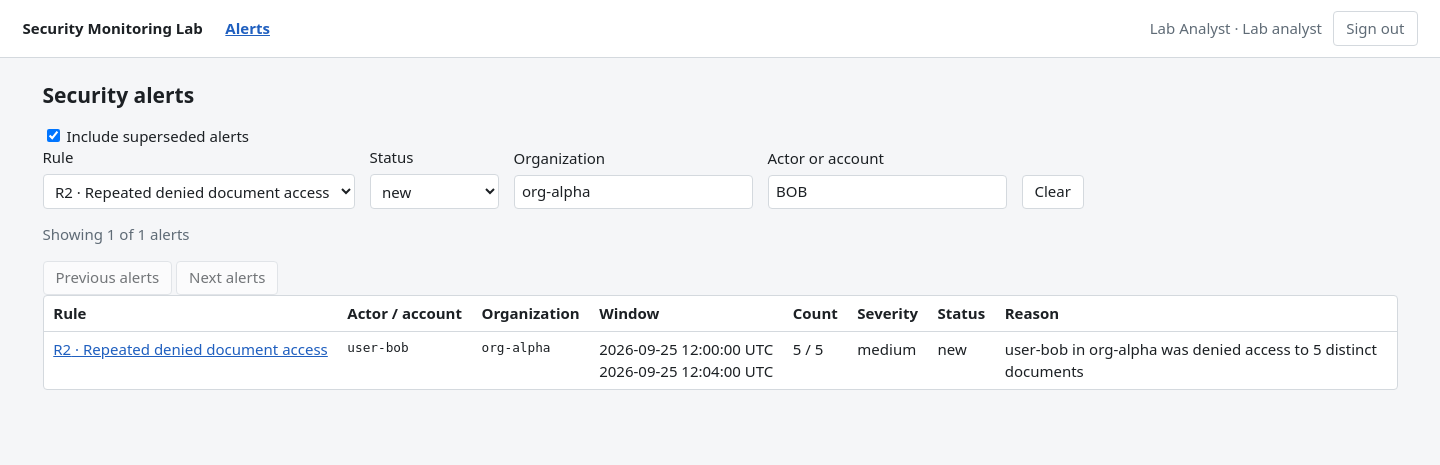
Test: analyst investigation › restores URL filters and preserves history when filters are cleared
The image size is (1440, 465).
Check: the text "Showing 1 of 1 alerts" is shown, box [42,224,190,244]
Check: the dropdown labelled "Rule" shows "R2 · Repeated denied document access", box [42,174,354,209]
Click the checkbox labelled "Include superseded alerts": click(53, 135) [46,129,60,142]
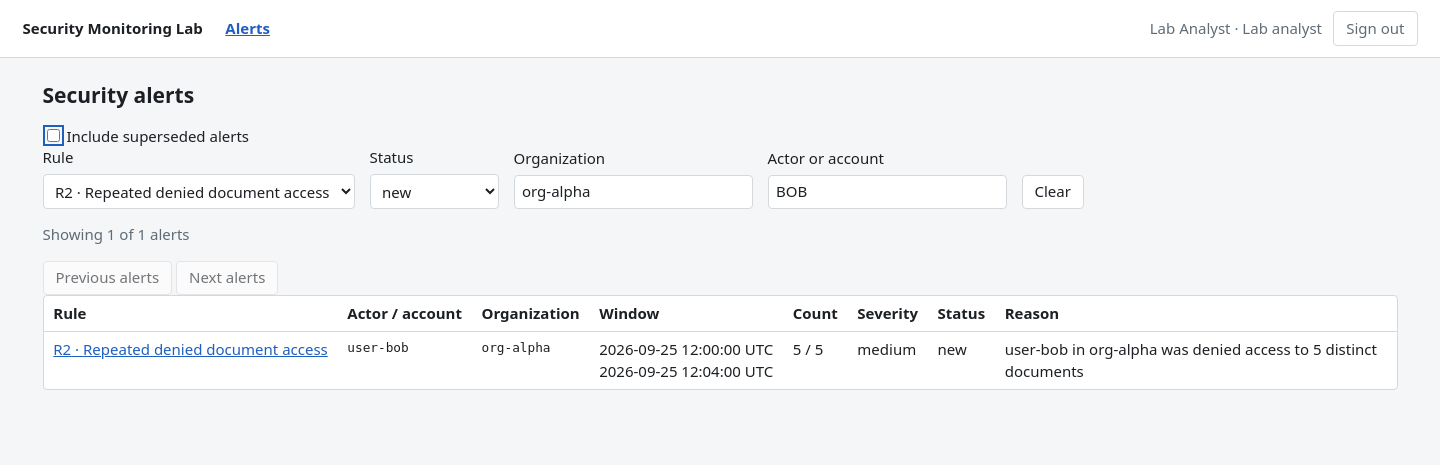
Check: the text "Showing 1 of 1 alerts" is shown, box [42,224,190,244]
Check: the dropdown labelled "Rule" shows "R2 · Repeated denied document access", box [42,174,354,209]
Click the checkbox labelled "Include superseded alerts": click(53, 135) [46,129,60,142]
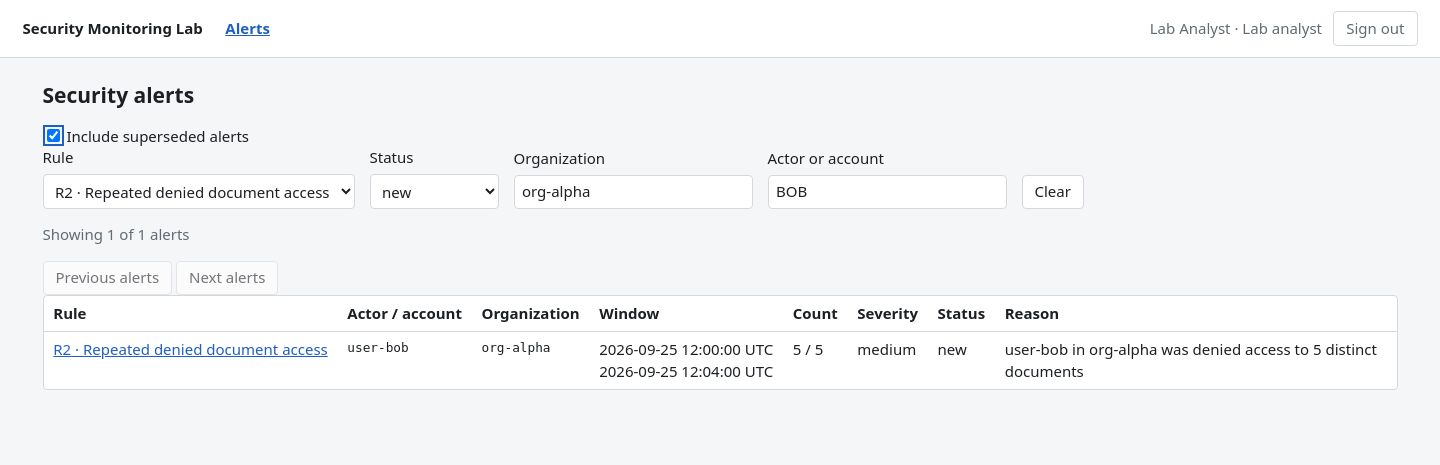
Check: the text "Showing 1 of 1 alerts" is shown, box [42,224,190,244]
Click the button "Clear": click(1053, 192) [1022,175,1084,209]
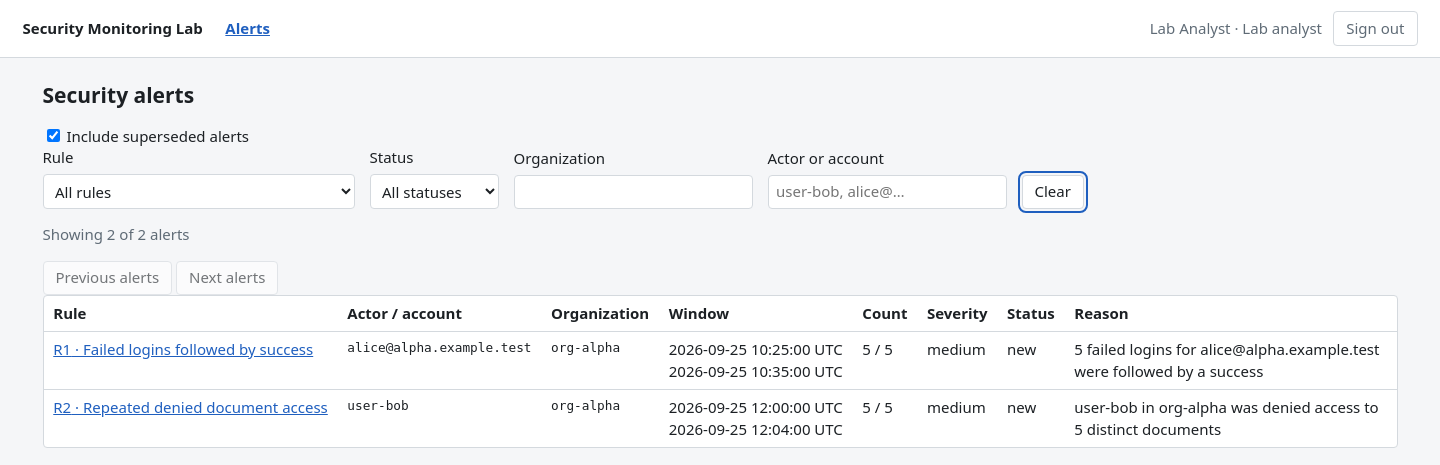
Check: the checkbox labelled "Include superseded alerts" is checked, box [46,129,60,142]
Check: the text "Showing 2 of 2 alerts" is shown, box [42,224,190,244]
Check: the dropdown labelled "Rule" shows "All rules", box [42,174,354,209]
